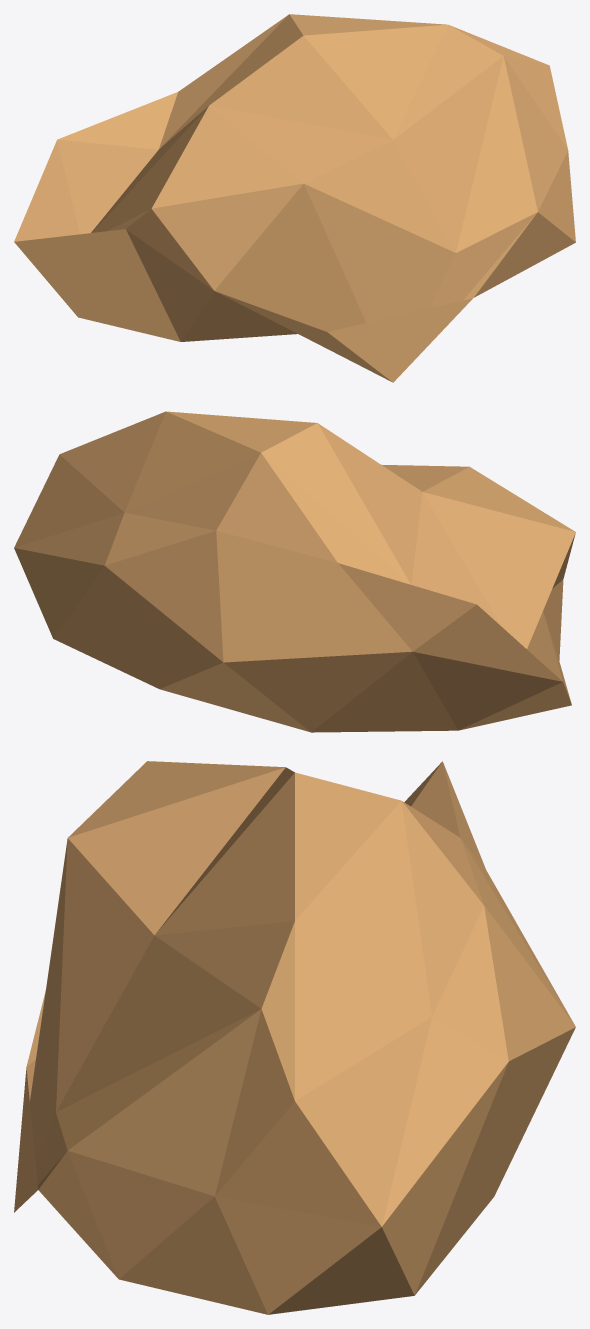
The model's file is rock1.fbx.
3 renders of one model, top to bottom at view 1: azimuth 30°, elevation 25°; view 2: azimuth 150°, elevation 25°; view 3: azimuth 270°, elevation 25°, orthographic. The views are drawn at different scales.
Parts seen in each view (by area): view 1: Icosphere; view 2: Icosphere; view 3: Icosphere.
Part boxes in pixels (left/top/right/bottom): Icosphere: left=14, top=14, right=575, bottom=382; Icosphere: left=14, top=411, right=575, bottom=732; Icosphere: left=14, top=761, right=575, bottom=1314.
Size of the model in its own units: 314 by 162 by 187.
